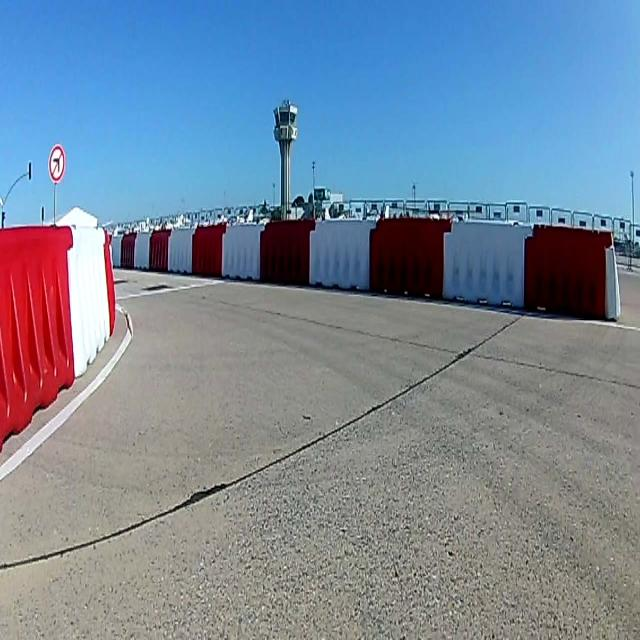soladonulmez: (47, 145, 65, 183)
